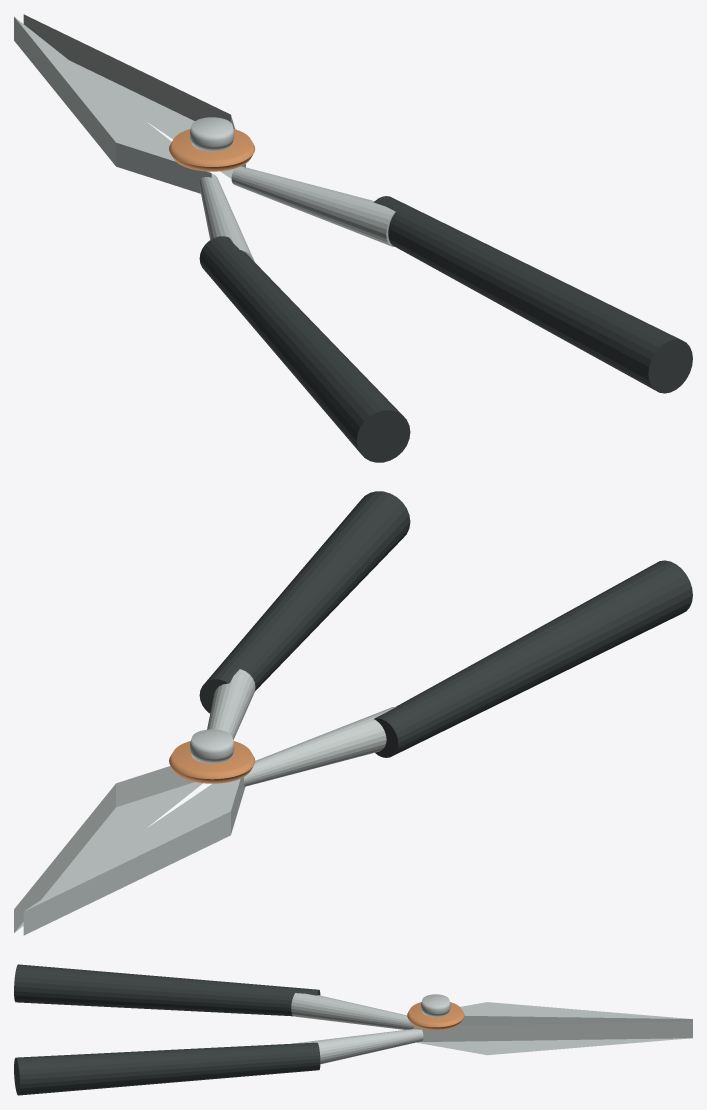
File: tea-garden-and-processing-house-tea-garden-and-process-d9c69a60__30762.glb
3 views of the same model, one above another, from view 1: azimuth 30°, elevation 25°; view 2: azimuth 150°, elevation 25°; view 3: azimuth 270°, elevation 25° (orthographic). The views are drawn at different scales.
Parts seen in each view (by area): view 1: tea-garden-and-processing-house-hedge-shaping-tool; view 2: tea-garden-and-processing-house-hedge-shaping-tool; view 3: tea-garden-and-processing-house-hedge-shaping-tool.
Part boxes in pixels (x1,y1,x2,y2): tea-garden-and-processing-house-hedge-shaping-tool: (14, 14, 692, 462); tea-garden-and-processing-house-hedge-shaping-tool: (14, 491, 692, 935); tea-garden-and-processing-house-hedge-shaping-tool: (14, 964, 692, 1095).
Size of the model in its own units: 0.3514 by 0.071 by 0.9241.
